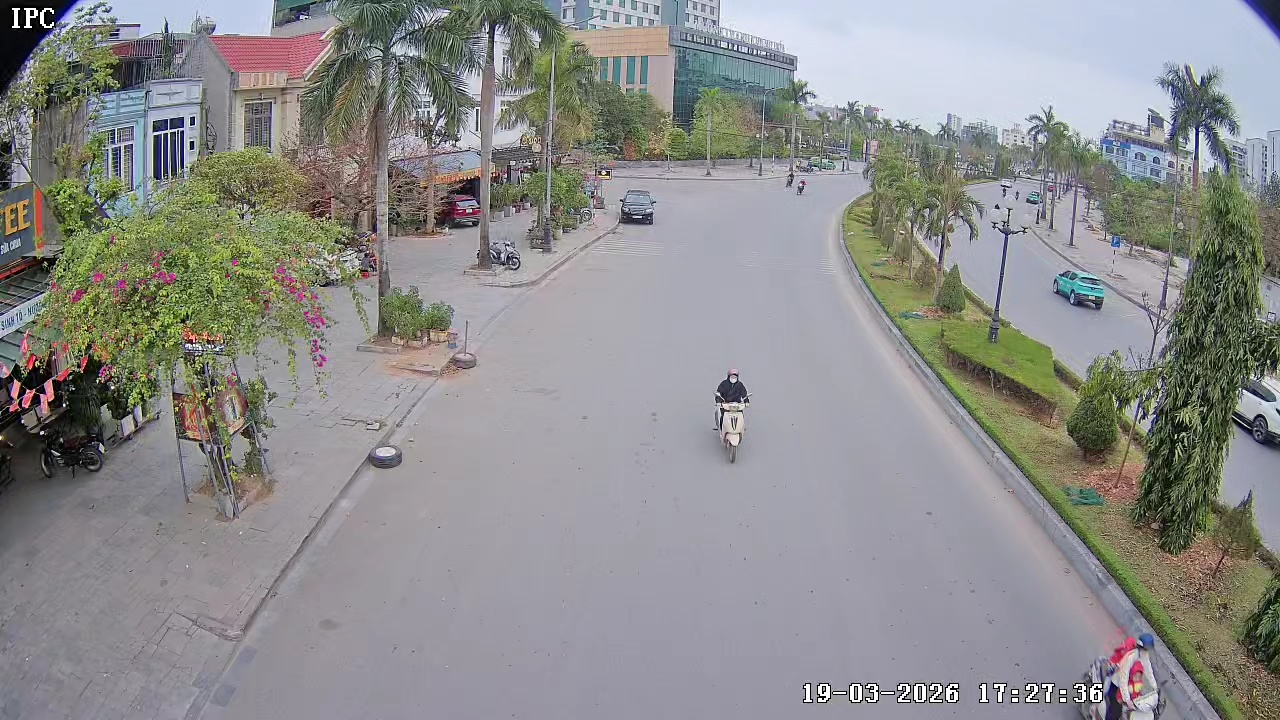car: (1232, 373, 1279, 454), (1052, 267, 1108, 312), (617, 186, 658, 225)
motorbike: (710, 367, 754, 464), (787, 166, 806, 197)
